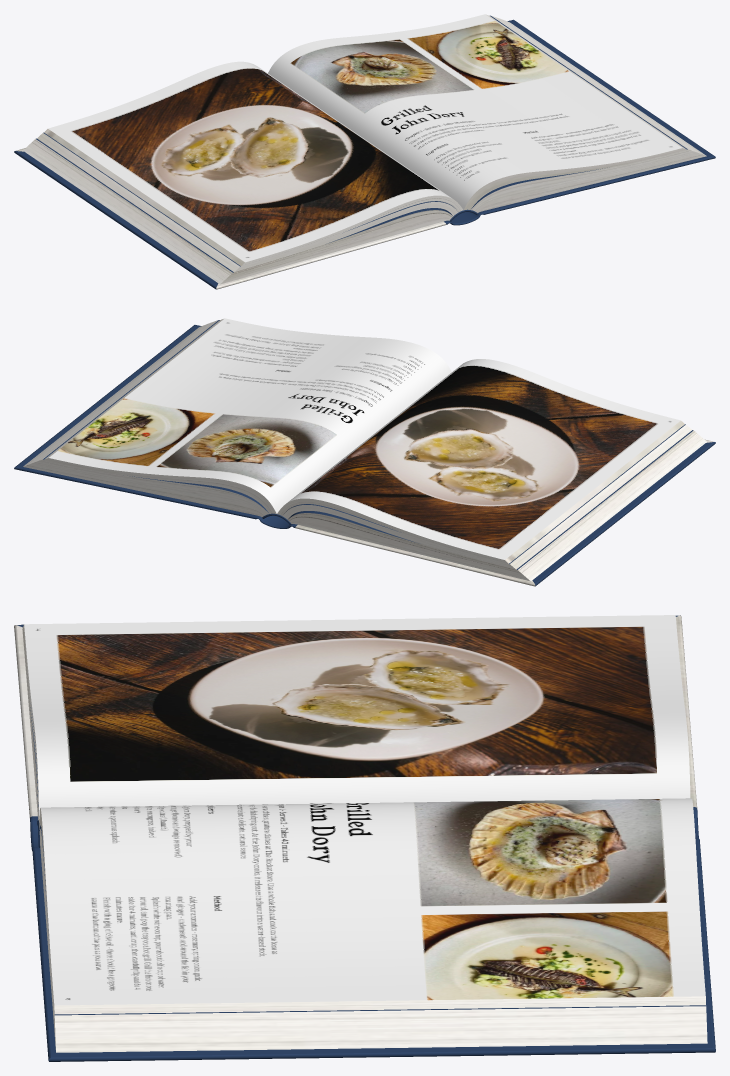
Rendered from open_book.glb.
3 views of the same model, one above another, from view 1: azimuth 30°, elevation 25°; view 2: azimuth 150°, elevation 25°; view 3: azimuth 270°, elevation 25° (orthographic). The views are drawn at different scales.
Parts seen in each view (by area): view 1: Mesh.002; view 2: Mesh.002; view 3: Mesh.002.
Part boxes in pixels (left/top/right/bottom): Mesh.002: left=14, top=14, right=715, bottom=289; Mesh.002: left=14, top=318, right=715, bottom=586; Mesh.002: left=14, top=615, right=715, bottom=1061.
Size of the model in its own units: 0.309 by 0.0204 by 0.2065.
4 materials, 3 textured.
